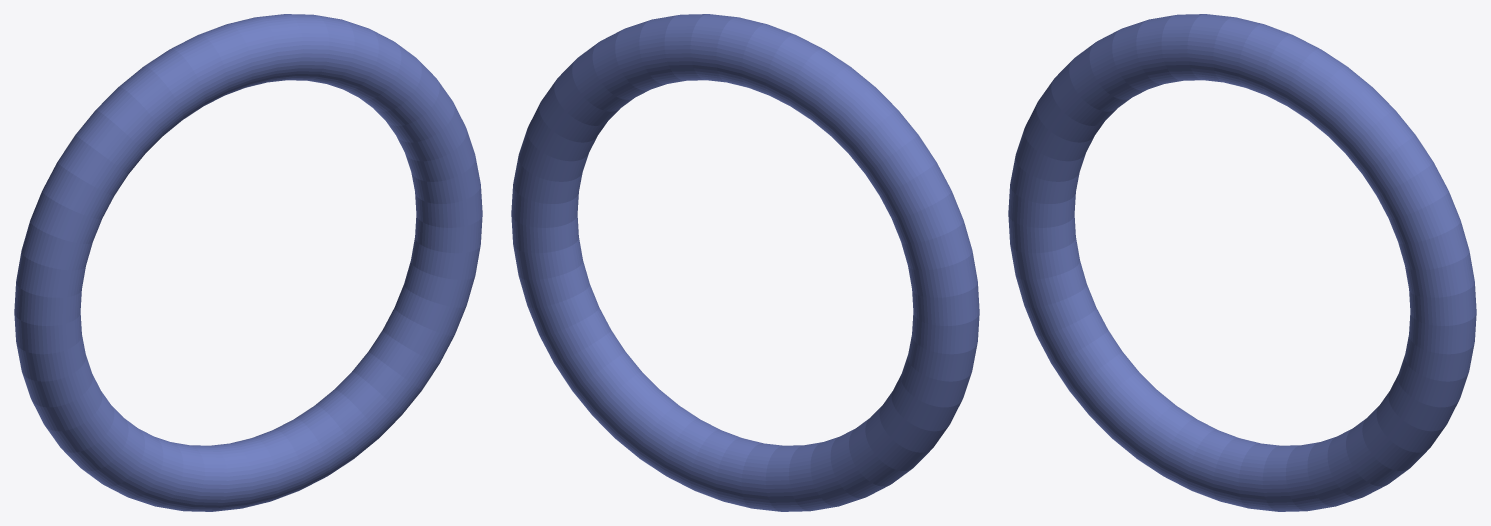
3 views of the same model, side by side, from view 1: azimuth 30°, elevation 25°; view 2: azimuth 150°, elevation 25°; view 3: azimuth 330°, elevation 25° (orthographic).
Visible parts, largest first — view 1: world; view 2: world; view 3: world.
Part boxes in pixels (<box>): world: <box>14,14,482,511</box>; world: <box>511,14,979,511</box>; world: <box>1008,14,1476,511</box>.
Size of the model in its own units: 16 by 15.97 by 2.
